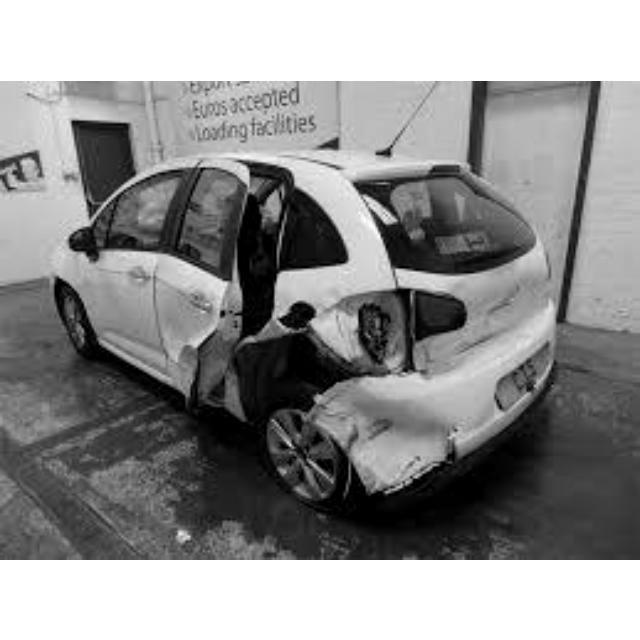Taillight-Damage: (329, 296, 413, 375)
boot-dent: (431, 244, 554, 355)
doorouter-dent: (153, 238, 269, 398)
rear-bumper-dent: (310, 380, 487, 483)
